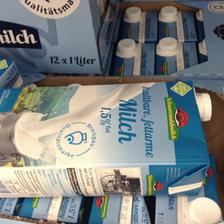Milch: (0, 85, 216, 199)
